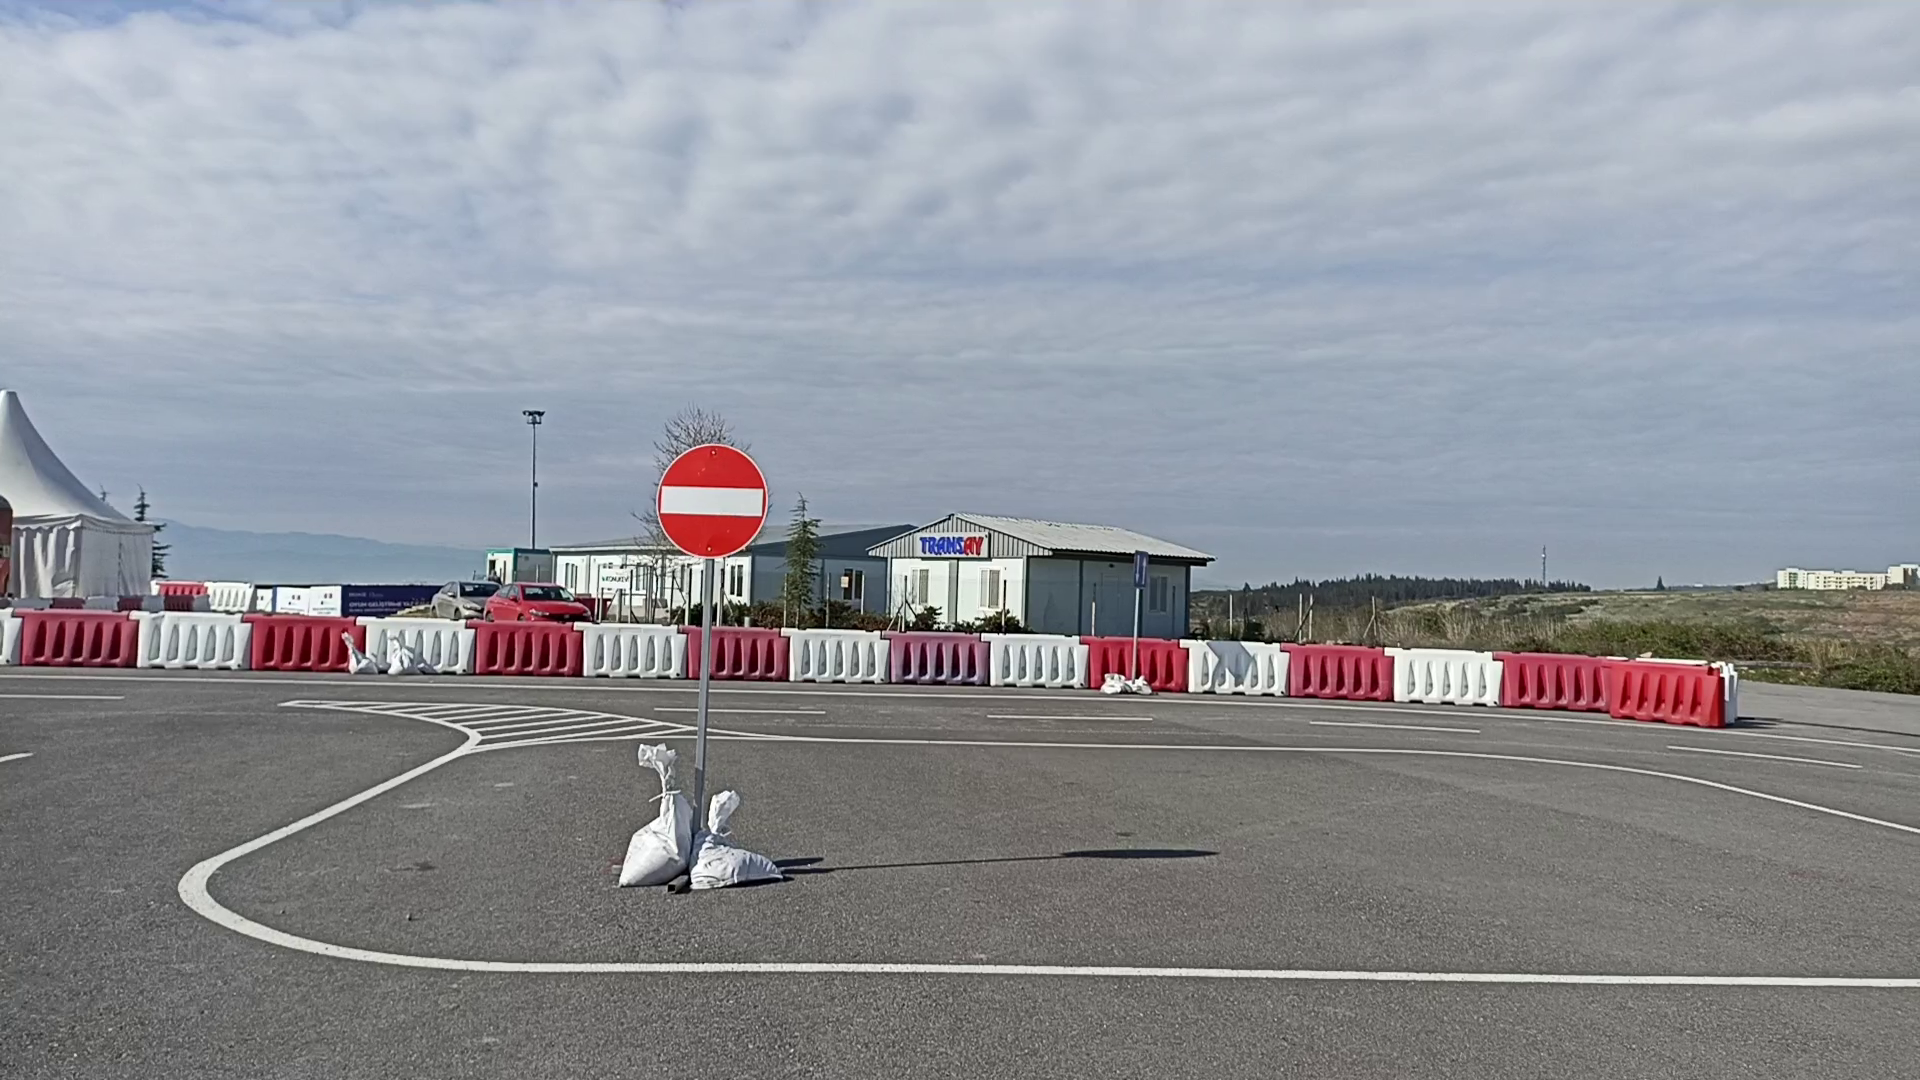noentryway: (653, 440, 770, 560)
